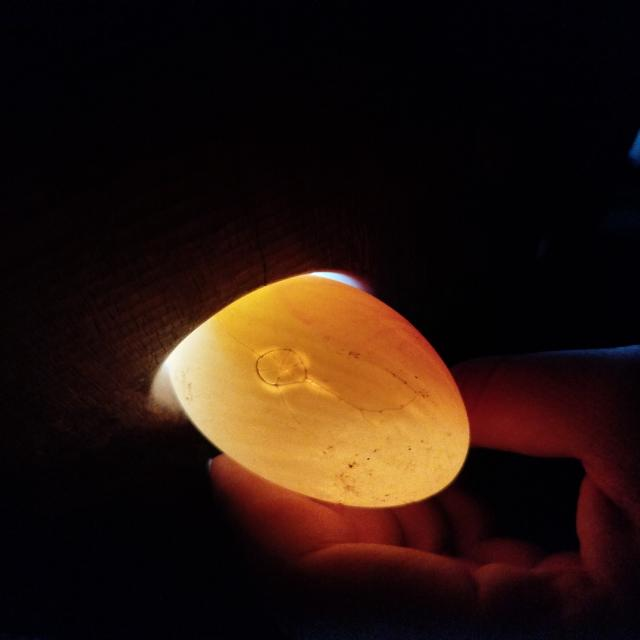Rachadura: (257, 349, 307, 386)
